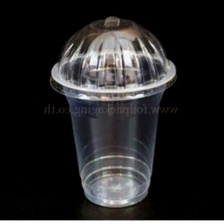glass: (46, 12, 183, 210)
